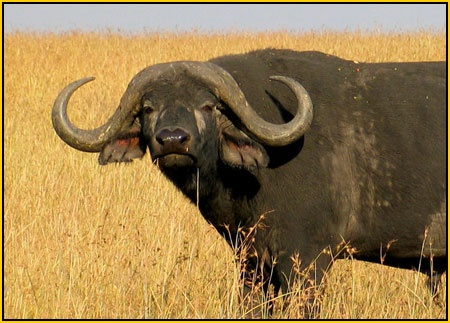buffalo: (50, 46, 446, 303)
